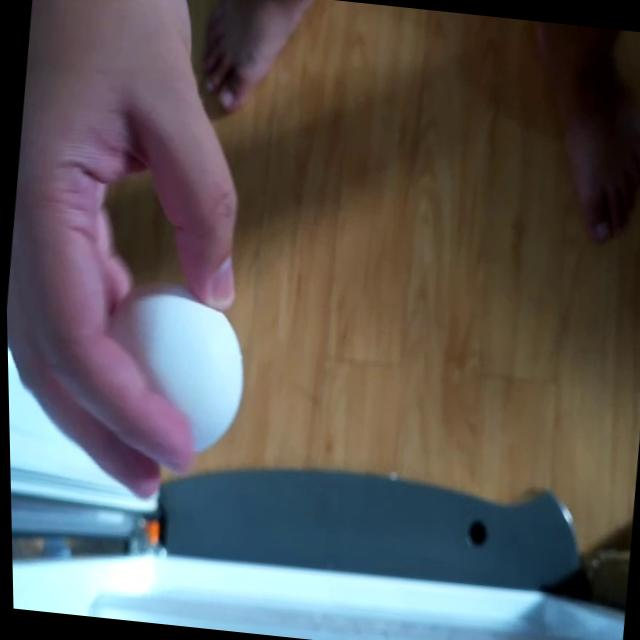egg: (106, 288, 249, 460)
